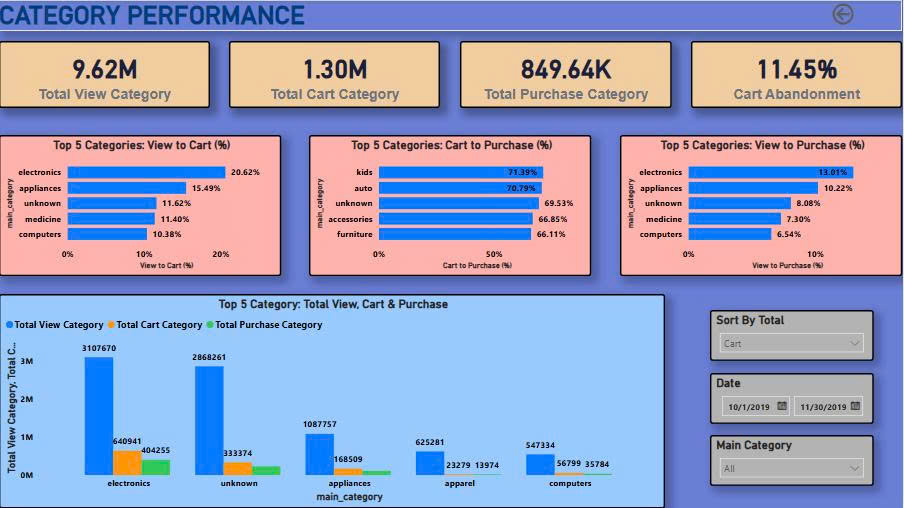

What the dashboard file says about the page in this screenshot:
{"tool":"powerbi","page":{"name":"CATEGORY PERFORMANCE","canvas":[1280,720],"ordinal":2},"visuals":[{"type":"shape","title":"CATEGORY PERFORMANCE","box":[0,0,1280.2,43.9],"z":0},{"type":"card","title":"Total View","fields":{"Values":["category.Total View Category"]},"box":[0,58,299.4,94.8],"z":1000},{"type":"card","fields":{"Values":["category.Total Cart Category"]},"box":[326.6,58,299.4,94.8],"z":2000},{"type":"card","fields":{"Values":["category.Total Purchase Category"]},"box":[653.3,58,300.3,94.8],"z":3000},{"type":"card","fields":{"Values":["category.Cart Abandonment"]},"box":[980.8,58,299.4,94.8],"z":4000},{"type":"slicer","title":"Date","fields":{"Values":["Calendar.Date"]},"box":[1008,528,232,72],"z":5000},{"type":"slicer","title":"Main Category","fields":{"Values":["category.main_category"]},"box":[1008,616,232,72],"z":6000},{"type":"clusteredBarChart","title":"Top 5 Categories: View to Cart (%)","fields":{"Category":["category.main_category"],"Y":["category.View to Cart (%)"]},"box":[0,192,400,200],"z":7000},{"type":"clusteredBarChart","title":"Top 5 Categories: Cart to Purchase (%)","fields":{"Category":["category.main_category"],"Y":["category.Cart to Purchase (%)"]},"box":[440,192,400,200],"z":8000},{"type":"clusteredBarChart","title":"Top 5 Categories: View to Purchase (%)","fields":{"Category":["category.main_category"],"Y":["category.View to Purchase (%)"]},"box":[880,192,400,200],"z":9000},{"type":"actionButton","box":[1176,0,104,40],"z":10000},{"type":"clusteredColumnChart","title":"Top 5 Category: Total View, Cart & Purchase ","fields":{"Category":["category.main_category"],"Y":["category.Total View Category","category.Total Cart Category","category.Total Purchase Category"]},"box":[0,416,944,304],"z":11000},{"type":"slicer","title":"Sort By Total","fields":{"Values":["SortOptions.SortBy"]},"box":[1008,440,232,72],"z":12000}]}

Visuals, with their boxes in screenshot pixels (x1, y1, x2, y2), scaled from the page's 1280x720 canvas onto the 904x508 screenshot:
"CATEGORY PERFORMANCE" shape: 0:0:903:31
"Total View" card: 0:41:211:108
card - category.Total Cart Category: 231:41:442:108
card - category.Total Purchase Category: 461:41:673:108
card - category.Cart Abandonment: 693:41:903:108
"Date" slicer: 712:373:876:423
"Main Category" slicer: 712:435:876:485
"Top 5 Categories: View to Cart (%)" clusteredBarChart: 0:135:282:277
"Top 5 Categories: Cart to Purchase (%)" clusteredBarChart: 311:135:593:277
"Top 5 Categories: View to Purchase (%)" clusteredBarChart: 622:135:903:277
actionButton: 831:0:903:28
"Top 5 Category: Total View, Cart & Purchase " clusteredColumnChart: 0:294:667:507
"Sort By Total" slicer: 712:310:876:361
